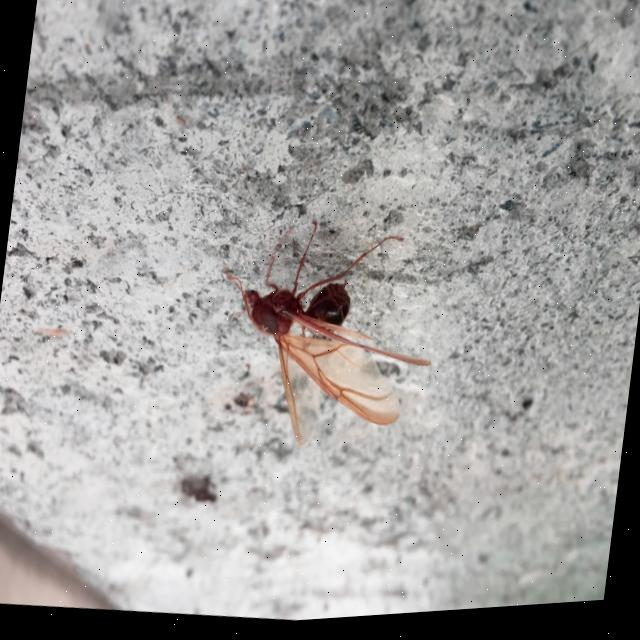Alive-Female-Alate: (209, 210, 447, 472)
